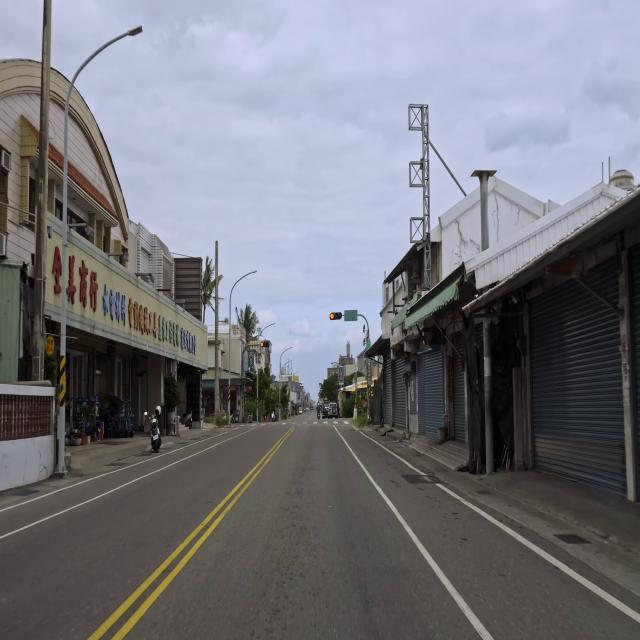red light: (330, 312, 342, 320), (260, 342, 270, 348)
